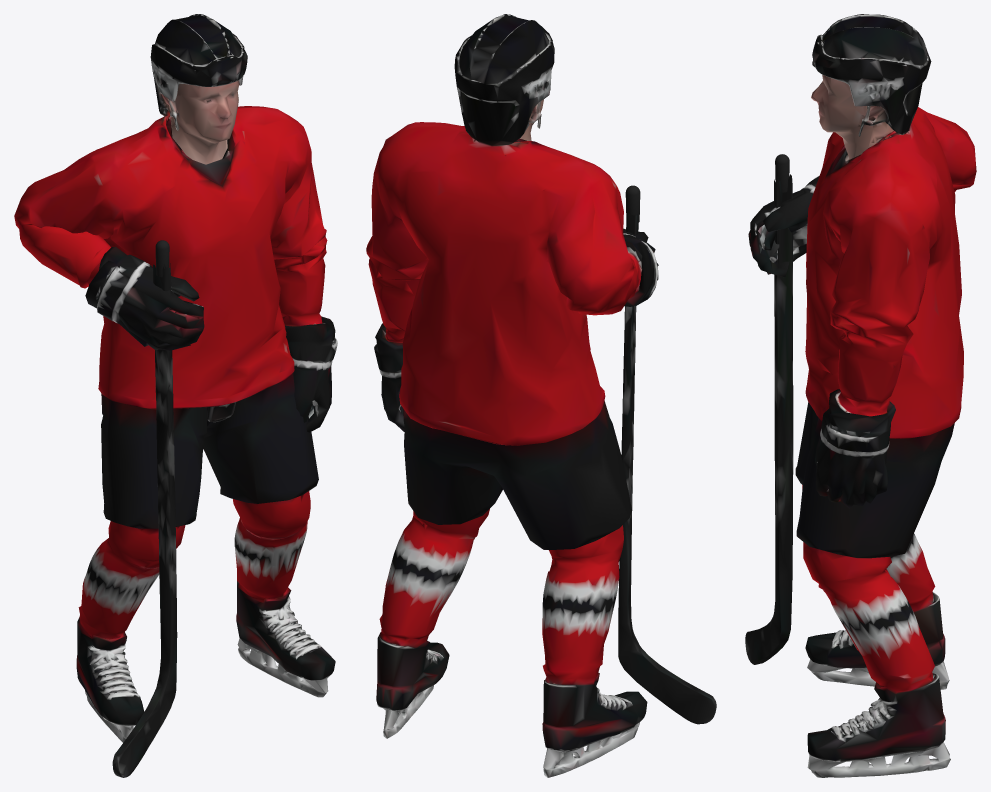
The model's file is brady_low.glb.
3 renders of one model, left to right at view 1: azimuth 30°, elevation 25°; view 2: azimuth 150°, elevation 25°; view 3: azimuth 270°, elevation 25°, orthographic. The views are drawn at different scales.
Visible parts, largest first — view 1: brady, stick; view 2: brady, stick; view 3: brady, stick.
Part boxes in pixels (bbox=[...]): brady: bbox=[14, 14, 337, 742]; stick: bbox=[112, 263, 177, 777]; brady: bbox=[366, 14, 658, 777]; stick: bbox=[618, 207, 716, 724]; brady: bbox=[748, 14, 976, 777]; stick: bbox=[745, 174, 793, 664].
Bounding box in the file's own units: 0.7958 × 1.87 × 0.5515.
